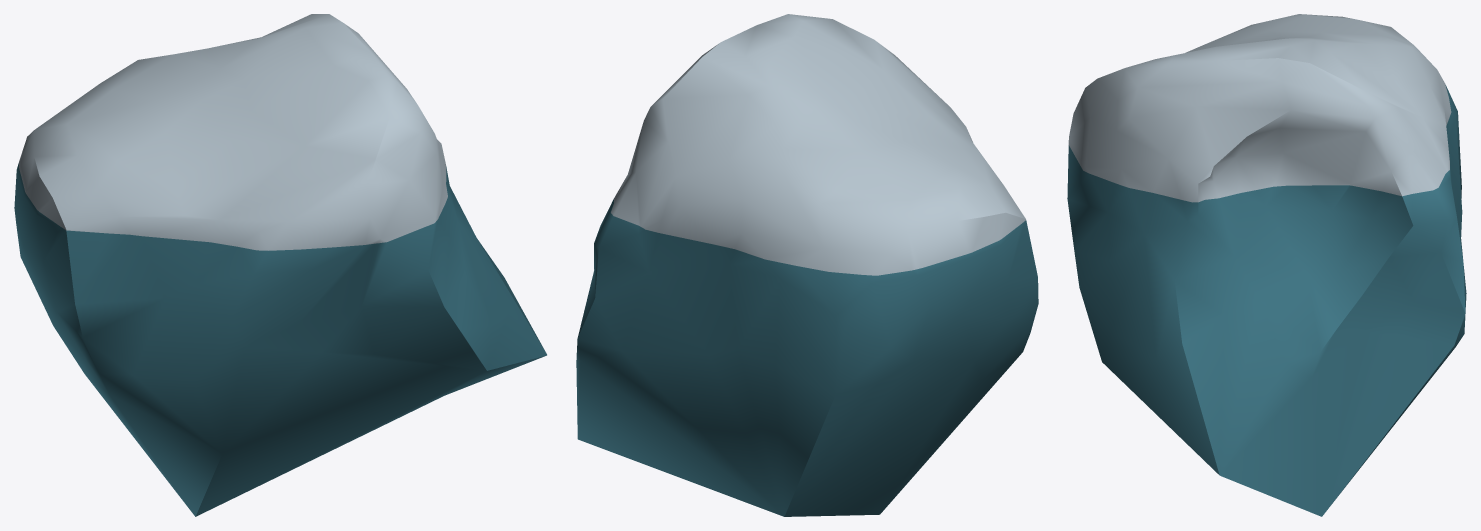
Rendered from growler_c.glb.
3 renders of one model, left to right at view 1: azimuth 30°, elevation 25°; view 2: azimuth 150°, elevation 25°; view 3: azimuth 270°, elevation 25°, orthographic. The views are drawn at different scales.
Visible parts, largest first — view 1: growler_c; view 2: growler_c; view 3: growler_c.
Boxes of the visible parts, x1,y1,x2,y2 form: growler_c: (14,14,546,516); growler_c: (576,14,1038,516); growler_c: (1067,14,1466,516).
Size of the model in its own units: 2.4 by 2.2 by 1.85.
